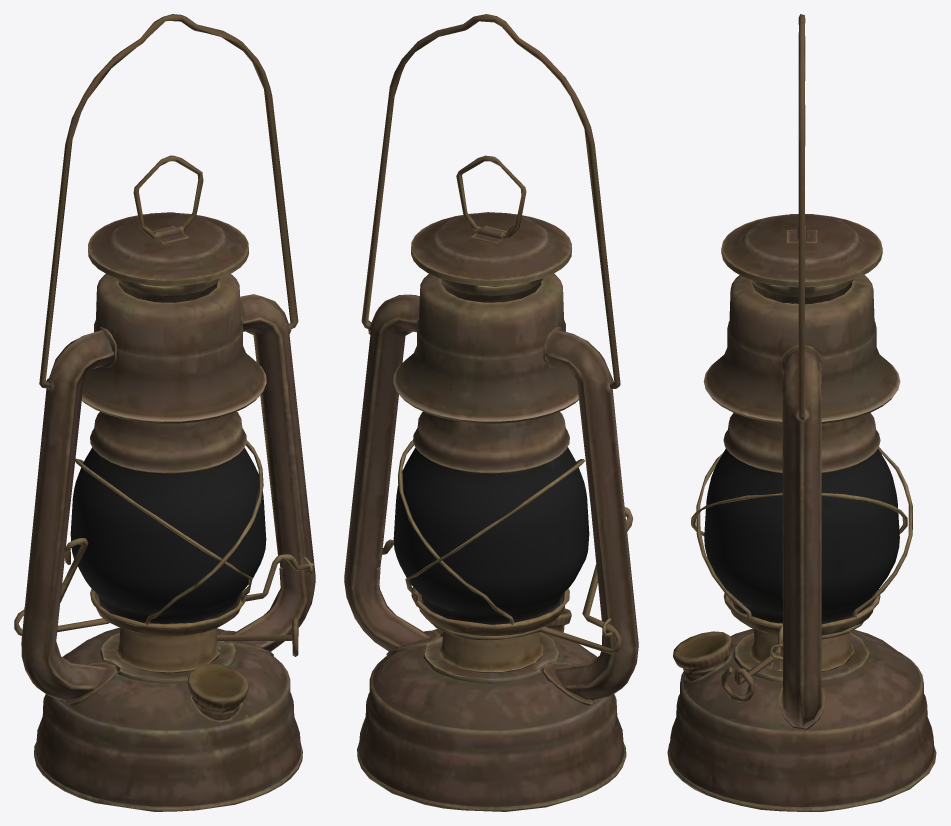
File: Lantern_01.glb
3 views of the same model, side by side, from view 1: azimuth 30°, elevation 25°; view 2: azimuth 150°, elevation 25°; view 3: azimuth 270°, elevation 25° (orthographic).
Visible parts, largest first — view 1: Lantern_01, Lantern_01_glass; view 2: Lantern_01, Lantern_01_glass; view 3: Lantern_01, Lantern_01_glass.
Boxes of the visible parts, bbox=[...] form: Lantern_01: bbox=[14, 14, 315, 811]; Lantern_01_glass: bbox=[70, 447, 266, 623]; Lantern_01: bbox=[344, 14, 638, 811]; Lantern_01_glass: bbox=[393, 447, 589, 624]; Lantern_01: bbox=[667, 14, 936, 811]; Lantern_01_glass: bbox=[704, 448, 899, 624].
Size of the model in its own units: 0.1219 by 0.2939 by 0.097.
Materials: 2 (2 with a texture image).
